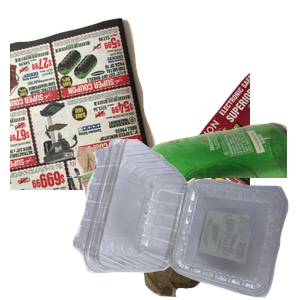glass: (60, 120, 300, 300)
paper: (10, 15, 250, 195)
plastic: (70, 139, 300, 300)
trash: (73, 147, 300, 300)
